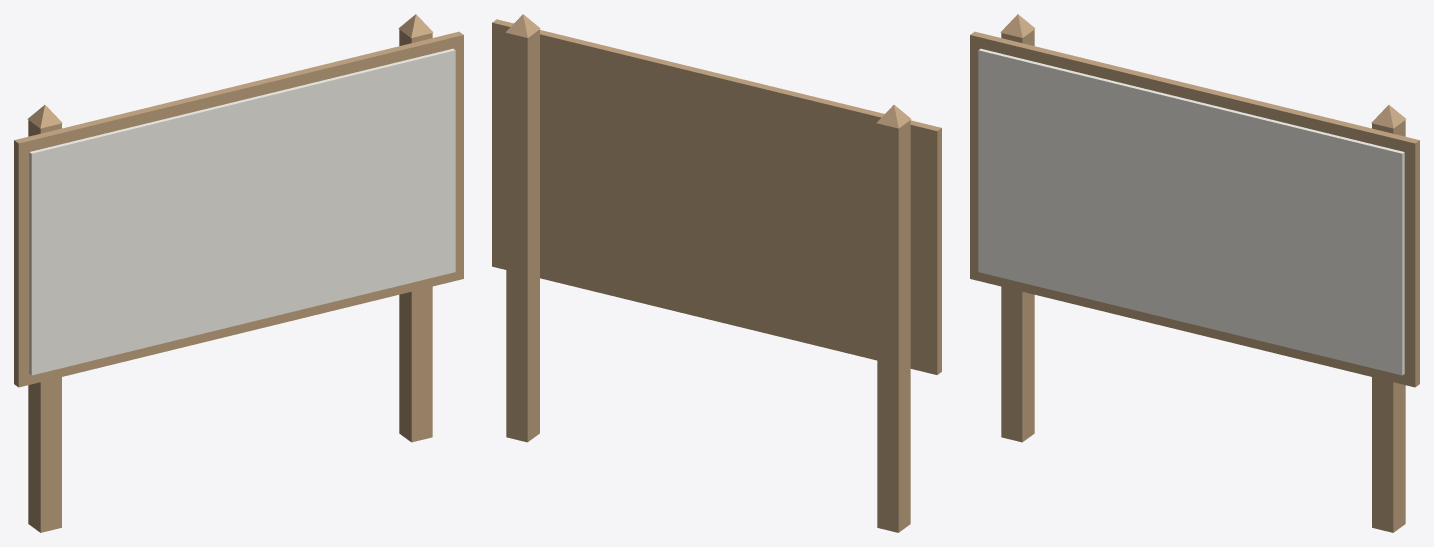
Rendered from sign.glb.
3 renders of one model, left to right at view 1: azimuth 30°, elevation 25°; view 2: azimuth 150°, elevation 25°; view 3: azimuth 330°, elevation 25°, orthographic.
Visible parts, largest first — view 1: board, backing, post_poles, post_caps; view 2: backing, post_poles, post_caps; view 3: board, backing, post_poles, post_caps.
Part boxes in pixels (x1=…): board: x1=29, y1=48, x2=455, y2=375; backing: x1=14, y1=31, x2=463, y2=387; post_poles: x1=28, y1=29, x2=432, y2=532; post_caps: x1=27, y1=14, x2=433, y2=128; backing: x1=492, y1=19, x2=941, y2=374; post_poles: x1=506, y1=29, x2=910, y2=532; post_caps: x1=506, y1=14, x2=911, y2=128; board: x1=978, y1=48, x2=1404, y2=375; backing: x1=970, y1=31, x2=1419, y2=387; post_poles: x1=1001, y1=29, x2=1405, y2=532; post_caps: x1=1000, y1=14, x2=1406, y2=128.
Bounding box in the file's own units: 3.36 × 3.04 × 0.2549.
